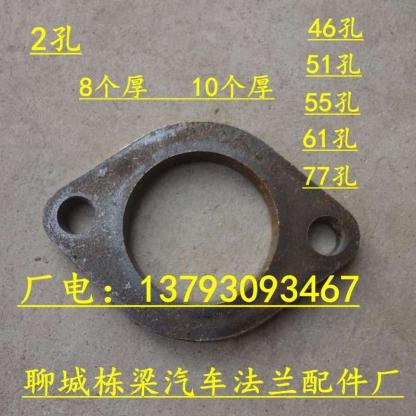FOD: (38, 115, 364, 347)
